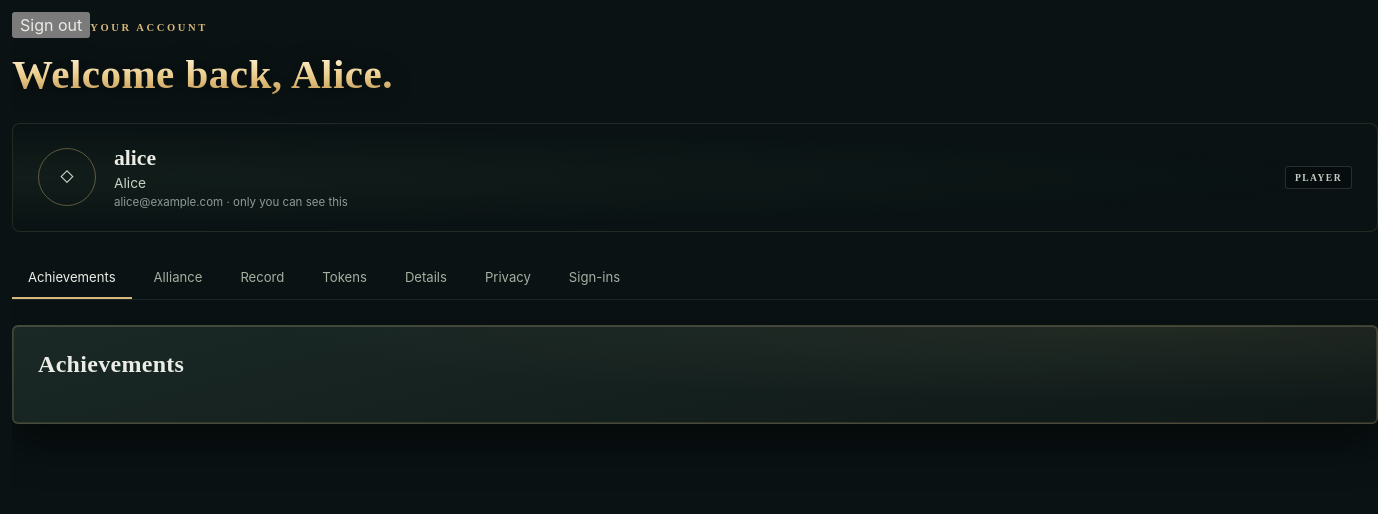
Test: signing out › keeps the account when the server refuses, and says why
Click the tab "Sign-ins" at (595, 278), box x1=553 y1=257 x2=636 y2=299
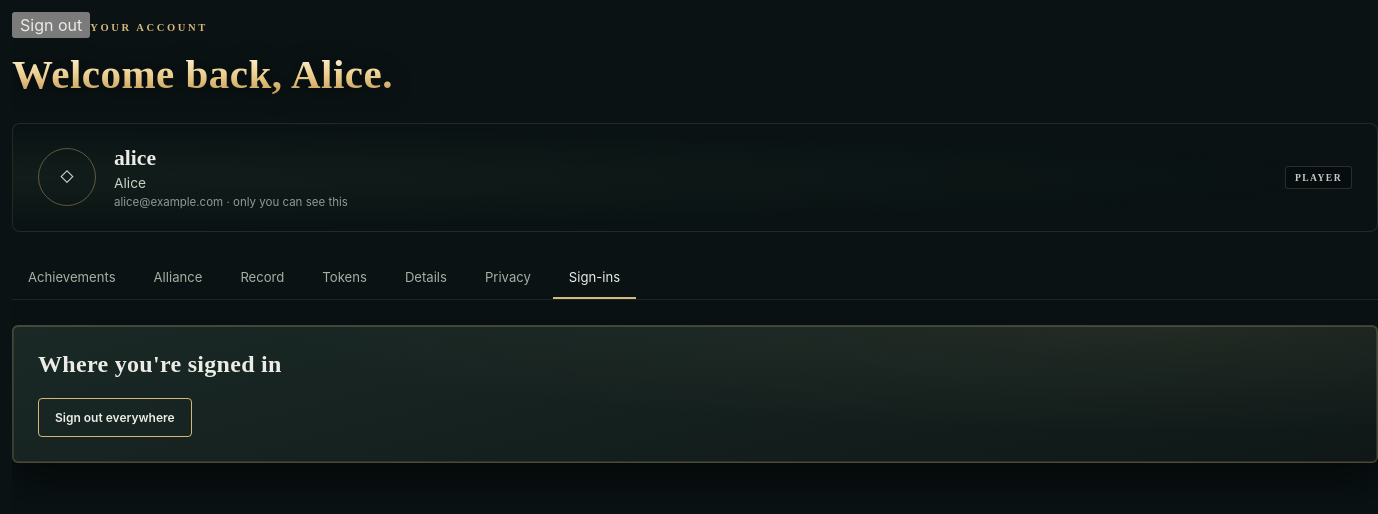
Click the button "Sign out everywhere" at (115, 417), box x1=38 y1=398 x2=192 y2=437
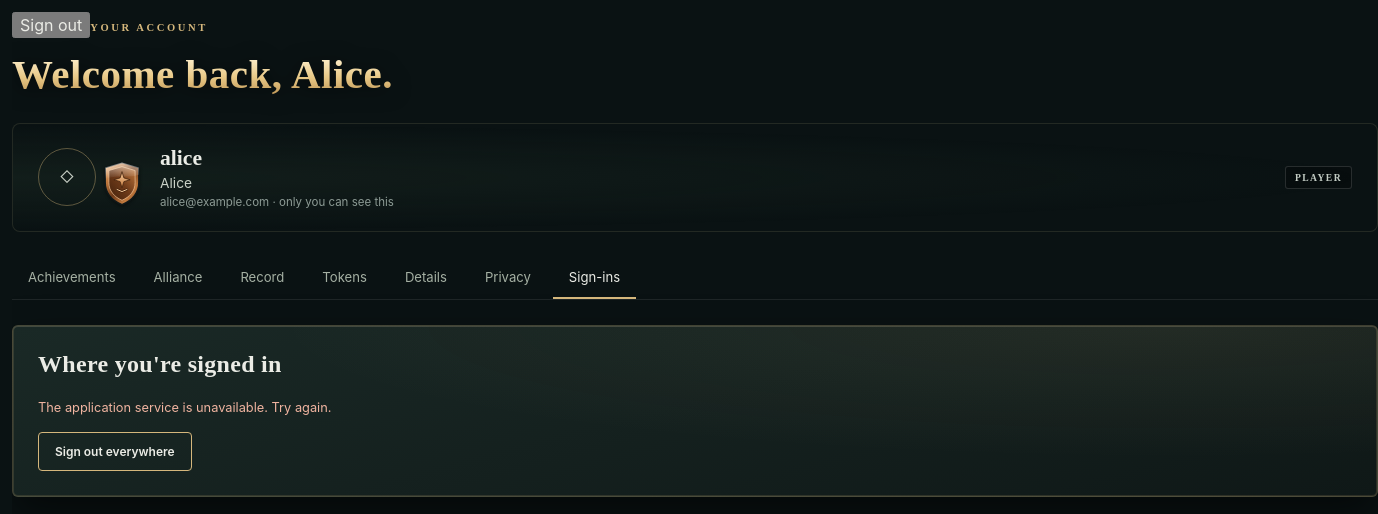
Expected: the heading "Welcome back, Alice." is shown, x1=12 y1=52 x2=1377 y2=98
Expected: the message reads "The application service is unavailable. Try again.", x1=38 y1=400 x2=332 y2=415
